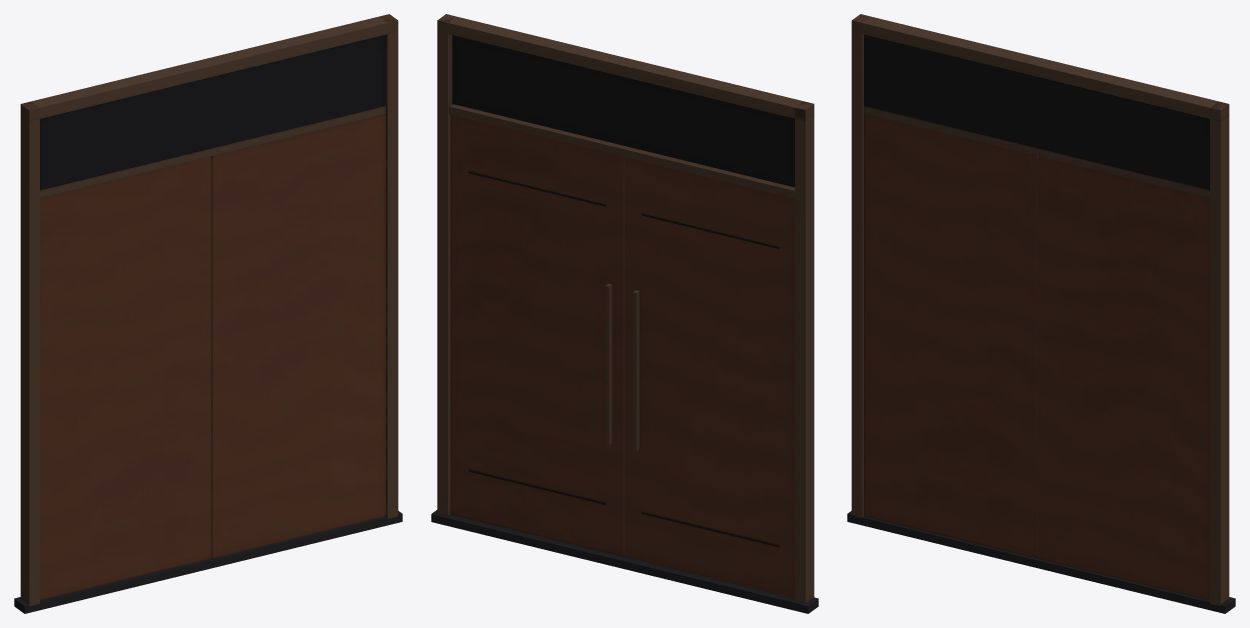
Rendered from atrium_bay.glb.
The picture shows the model from 3 angles, left to right: view 1: azimuth 30°, elevation 25°; view 2: azimuth 150°, elevation 25°; view 3: azimuth 330°, elevation 25°; orthographic projection.
Visible parts, largest first — view 1: atrium_bay; view 2: atrium_bay; view 3: atrium_bay.
Part boxes in pixels (<box>): atrium_bay: <box>14,14,402,613</box>; atrium_bay: <box>431,14,818,613</box>; atrium_bay: <box>847,14,1235,613</box>.
Bounding box in the file's own units: 2.49 × 3.16 × 0.12.
Materials: 1 (1 with a texture image).
